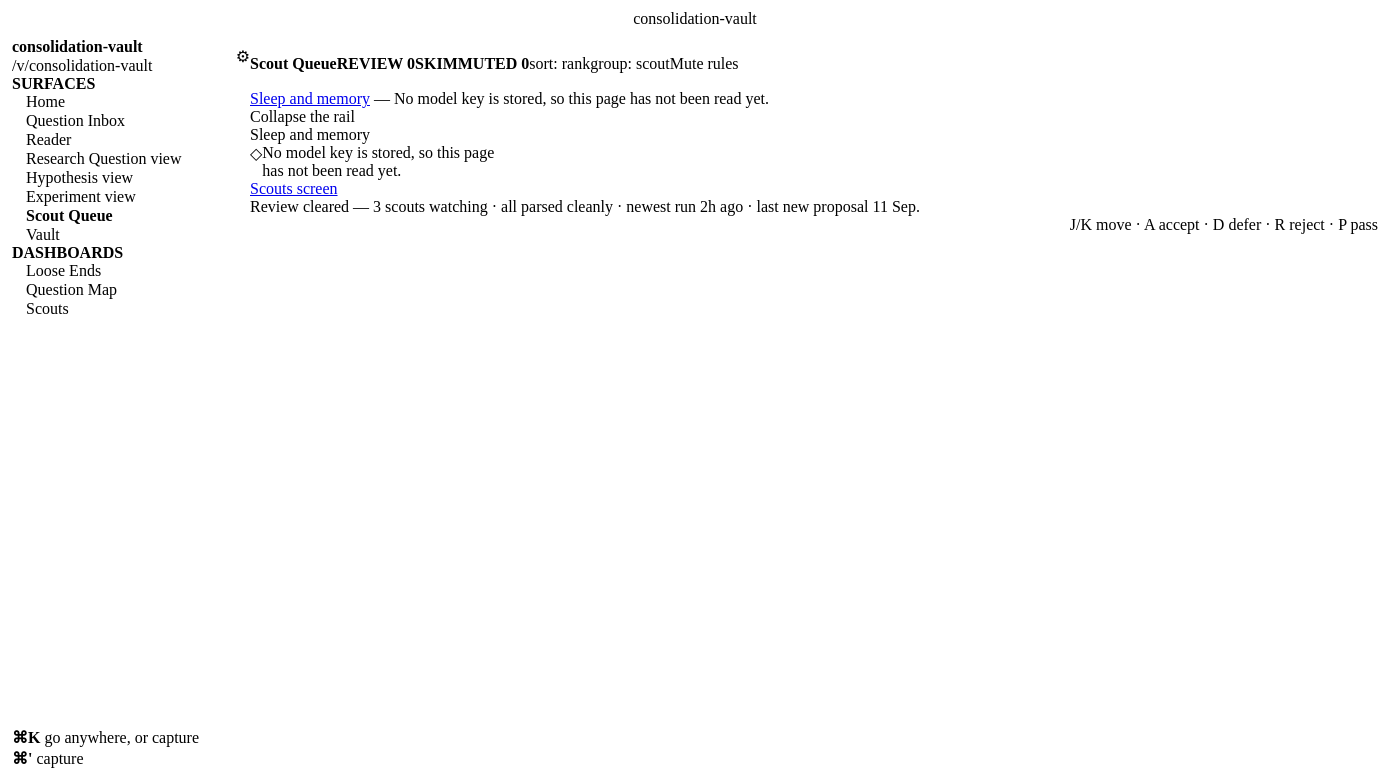
the rail's voices › says a Scout waiting on a key once on its row and once in its header, with no glyph: nothing has failed
Click the button "Sleep and memory" at [378, 153], box [250, 126, 506, 180]
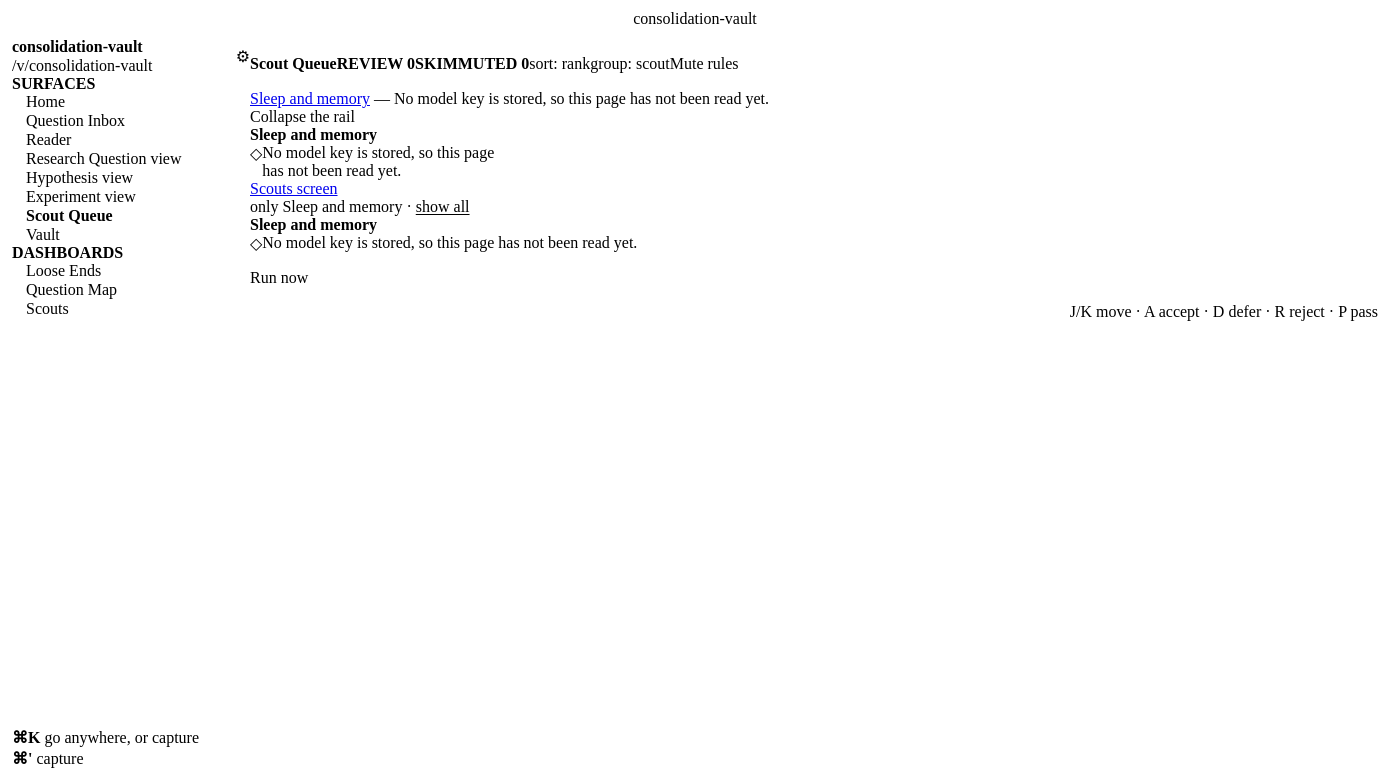
Now the heading "Sleep and memory" is shown, box [250, 216, 377, 233]
Now the text "No model key is stored, so this page has not been read yet." is shown 2 times, box [262, 144, 506, 180]; [262, 234, 637, 253]
